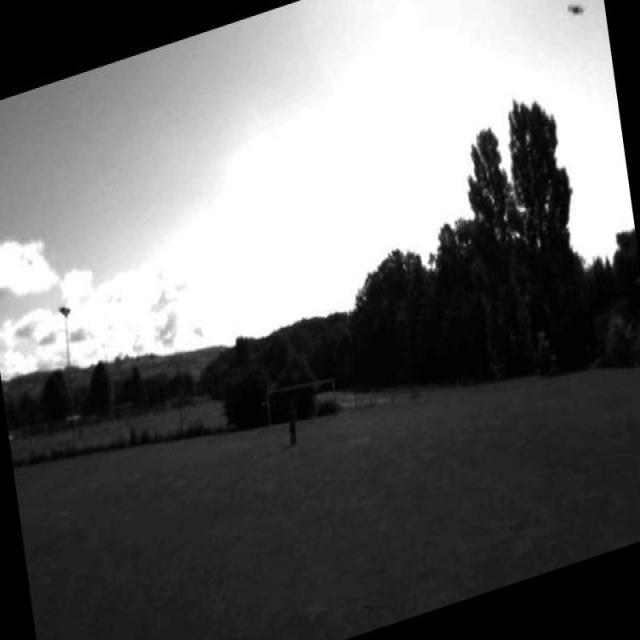drone: (562, 0, 588, 28)
